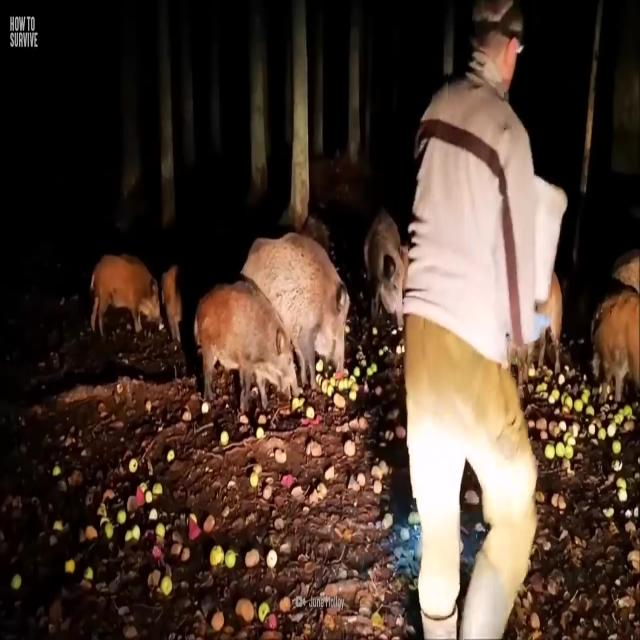pig: (186, 260, 304, 448), (255, 192, 352, 372), (80, 224, 162, 343), (594, 283, 640, 377), (358, 194, 390, 298)
